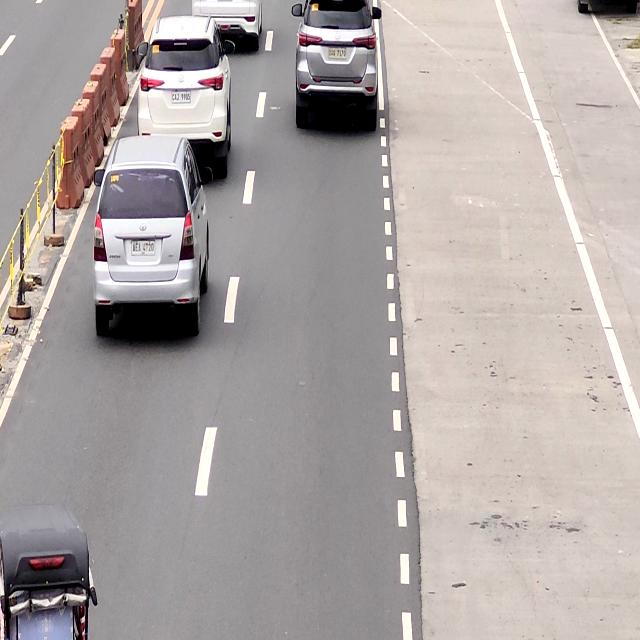Car: (96, 137, 209, 339), (295, 0, 379, 133), (140, 17, 230, 135), (189, 0, 265, 55)
License-Plate: (130, 237, 157, 258), (326, 45, 349, 62), (169, 91, 192, 105)
